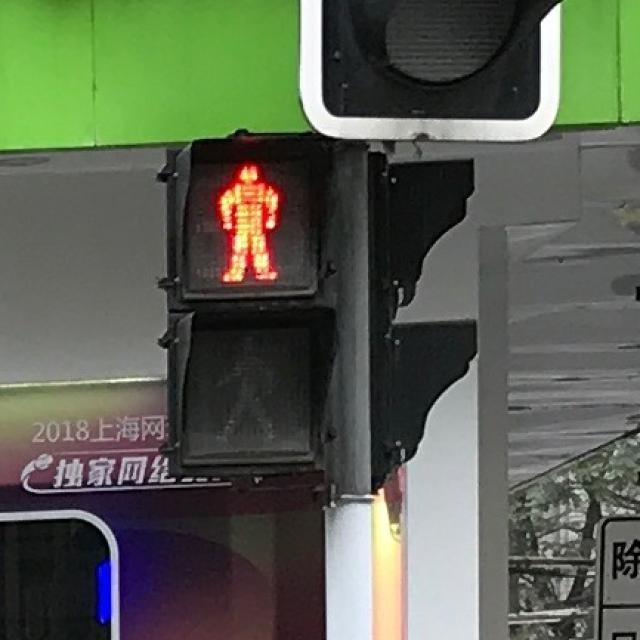red-crossing: (201, 148, 285, 288)
